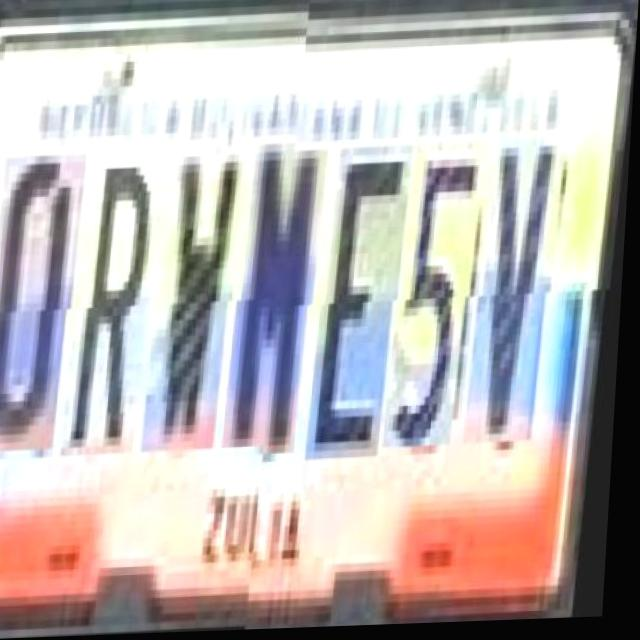0: (0, 163, 90, 461)
5: (396, 147, 490, 453)
e: (319, 149, 417, 464)
m: (235, 153, 332, 459)
r: (74, 159, 171, 465)
v: (477, 144, 570, 449)
w: (155, 155, 252, 462)
